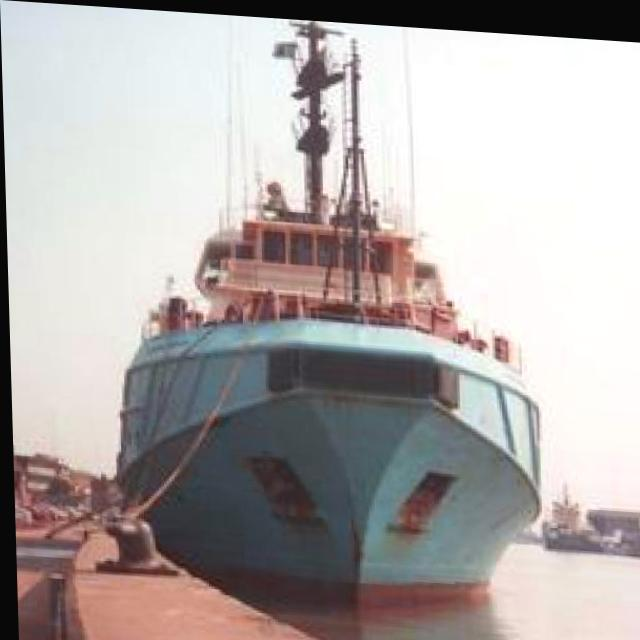ship2: (116, 16, 540, 585)
